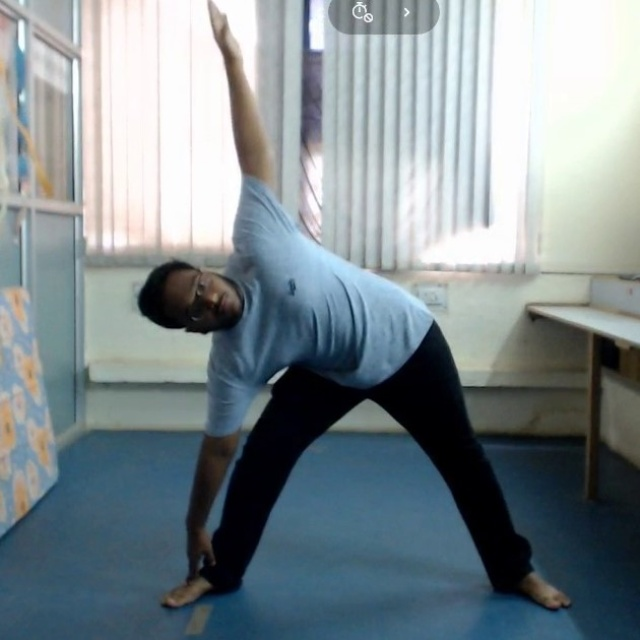Triangle_Pose: (133, 1, 582, 617)
